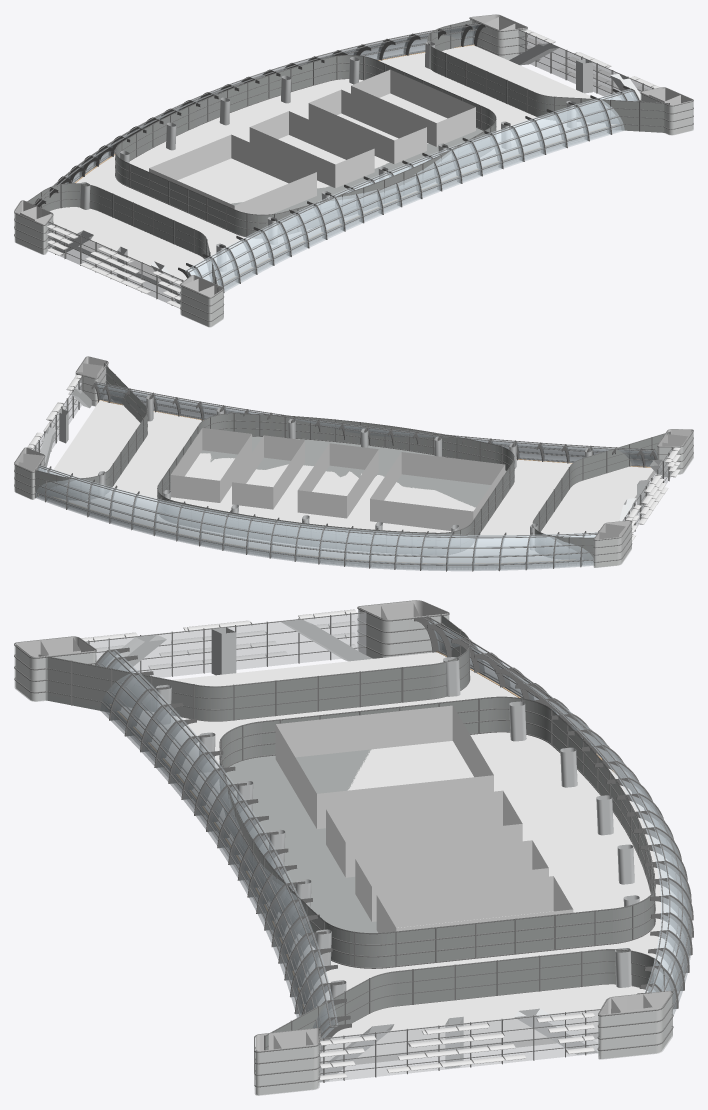
3 views of the same model, one above another, from view 1: azimuth 30°, elevation 25°; view 2: azimuth 150°, elevation 25°; view 3: azimuth 270°, elevation 25° (orthographic). The views are drawn at different scales.
Visible parts, largest first — view 1: floor.023; view 2: floor.023; view 3: floor.023.
Part boxes in pixels (x1,y1,x2,y2): floor.023: [14, 14, 693, 327]; floor.023: [14, 356, 693, 571]; floor.023: [14, 600, 693, 1095].
Size of the model in its own units: 81.91 by 3.76 by 52.1.
